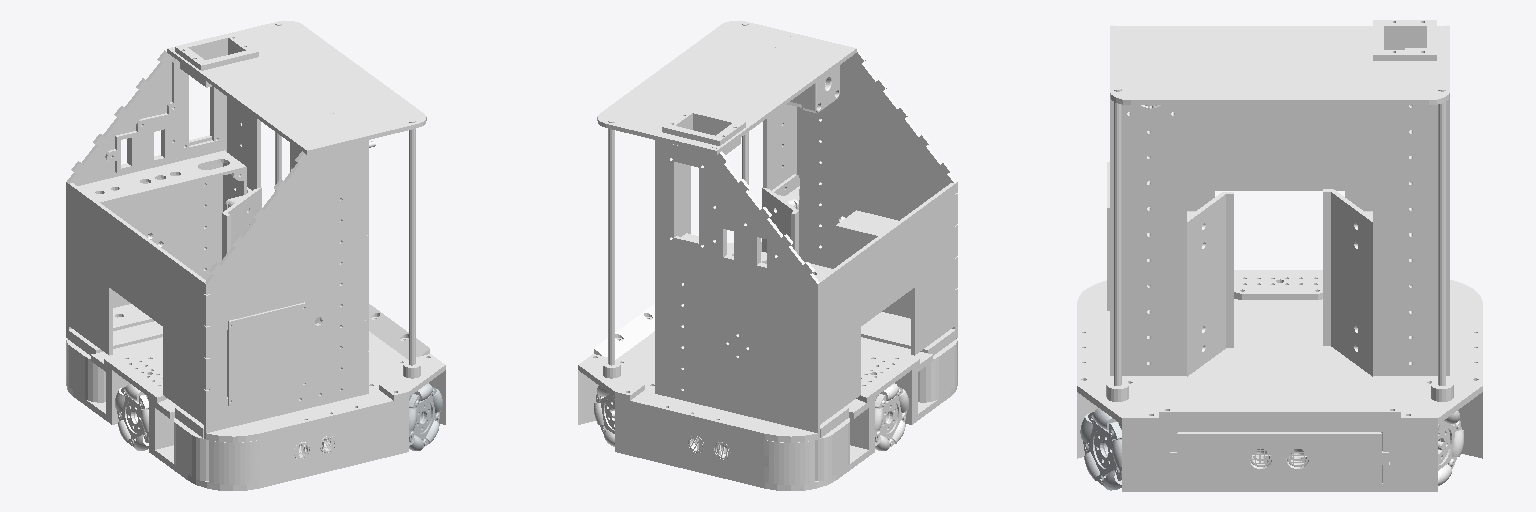
robot.urdf — eva:
<?xml version="1.0" encoding="utf-8"?>
<!-- This URDF was automatically created by SolidWorks to URDF Exporter! Originally created by [author] ([email redacted]) 
     Commit Version: 1.6.0-1-g15f4949  Build Version: 1.6.7594.29634
     For more information, please see http://wiki.ros.org/sw_urdf_exporter -->
<robot
  name="eva">
  <link
    name="evaBot01_base">
    <inertial>
      <origin
        xyz="-0.037166 -0.0044862 0.066632"
        rpy="0 0 0" />
      <mass
        value="2.604" />
      <inertia
        ixx="0.0035998"
        ixy="-1.1358E-05"
        ixz="-2.3646E-05"
        iyy="0.004967"
        iyz="8.6177E-07"
        izz="0.006078" />
    </inertial>
    <visual>
      <origin
        xyz="0 0 0"
        rpy="0 0 0" />
      <geometry>
        <mesh
          filename="package://eva/meshes/evaBot01_base.STL" />
      </geometry>
      <material
        name="">
        <color
          rgba="1 1 1 1" />
      </material>
    </visual>
    <collision>
      <origin
        xyz="0 0 0"
        rpy="0 0 0" />
      <geometry>
        <mesh
          filename="package://eva/meshes/evaBot01_base.STL" />
      </geometry>
    </collision>
  </link>
  <link
    name="evaBot01_left_wheel">
    <inertial>
      <origin
        xyz="0.11732 -0.19696 2.0333E-08"
        rpy="0 0 0" />
      <mass
        value="0.055895" />
      <inertia
        ixx="1.0957E-05"
        ixy="-2.5639E-06"
        ixz="-5.9397E-12"
        iyy="7.9962E-06"
        iyz="-5.248E-12"
        izz="6.516E-06" />
    </inertial>
    <visual>
      <origin
        xyz="0 0 0"
        rpy="0 0 0" />
      <geometry>
        <mesh
          filename="package://eva/meshes/evaBot01_back_wheel.STL" />
      </geometry>
      <material
        name="">
        <color
          rgba="1 1 1 1" />
      </material>
    </visual>
    <collision>
      <origin
        xyz="0 0 0"
        rpy="0 0 0" />
      <geometry>
        <mesh
          filename="package://eva/meshes/evaBot01_back_wheel.STL" />
      </geometry>
    </collision>
  </link>
  <joint
    name="left_wheel_to_base"
    type="continuous">
    <origin
      xyz="0.06461 0.11191 0.019"
      rpy="0 0 -0.5236" />
    <parent
      link="evaBot01_base" />
    <child
      link="evaBot01_left_wheel" />
    <axis
      xyz="0 -1 0" />
  </joint>
  <link
    name="evaBot01_right_wheel">
    <inertial>
      <origin
        xyz="0.11732 0.19696 -3.424E-09"
        rpy="0 0 0" />
      <mass
        value="0.055895" />
      <inertia
        ixx="1.0957E-05"
        ixy="2.5639E-06"
        ixz="9.1144E-12"
        iyy="7.9963E-06"
        iyz="-1.0797E-11"
        izz="6.516E-06" />
    </inertial>
    <visual>
      <origin
        xyz="0 0 0"
        rpy="0 0 0" />
      <geometry>
        <mesh
          filename="package://eva/meshes/evaBot01_back_wheel.STL" />
      </geometry>
      <material
        name="">
        <color
          rgba="0.89804 0.91765 0.92941 1" />
      </material>
    </visual>
    <collision>
      <origin
        xyz="0 0 0"
        rpy="0 0 0" />
      <geometry>
        <mesh
          filename="package://eva/meshes/evaBot01_back_wheel.STL" />
      </geometry>
    </collision>
  </link>
  <joint
    name="right_wheel_to_base"
    type="continuous">
    <origin
      xyz="0.06461 -0.11191 0.019"
      rpy="0 0 0.5236" />
    <parent
      link="evaBot01_base" />
    <child
      link="evaBot01_right_wheel" />
    <axis
      xyz="0 1 0" />
  </joint>
  <link
    name="evaBot01_back_wheel">
    <inertial>
      <origin
        xyz="0.11732 0.19696 -3.424E-09"
        rpy="0 0 0" />
      <mass
        value="0.055895" />
      <inertia
        ixx="1.0957E-05"
        ixy="2.5639E-06"
        ixz="9.1144E-12"
        iyy="7.9963E-06"
        iyz="-1.0797E-11"
        izz="6.516E-06" />
    </inertial>
    <visual>
      <origin
        xyz="0 0 0"
        rpy="0 0 0" />
      <geometry>
        <mesh
          filename="package://eva/meshes/evaBot01_back_wheel.STL" />
      </geometry>
      <material
        name="">
        <color
          rgba="1 1 1 1" />
      </material>
    </visual>
    <collision>
      <origin
        xyz="0 0 0"
        rpy="0 0 0" />
      <geometry>
        <mesh
          filename="package://eva/meshes/evaBot01_back_wheel.STL" />
      </geometry>
    </collision>
  </link>
  <joint
    name="back_wheel_to_base"
    type="continuous">
    <origin
      xyz="-0.129220573348487 0 0.0190000000000005"
      rpy="0 0 -1.57079632679484" />
    <parent
      link="evaBot01_base" />
    <child
      link="evaBot01_back_wheel" />
    <axis
      xyz="0 1 0" />
  </joint>
</robot>

--- Render facts (derived) ---
The picture shows the robot from 3 angles, left to right: view 1: azimuth 30°, elevation 25°; view 2: azimuth 150°, elevation 25°; view 3: azimuth 270°, elevation 25°; orthographic projection.
Model eva with 4 links and 3 joints (3 continuous), rooted at evaBot01_base, posed all joints at 0.
Visible links, largest first — view 1: evaBot01_base, evaBot01_back_wheel, evaBot01_right_wheel; view 2: evaBot01_base, evaBot01_back_wheel, evaBot01_left_wheel; view 3: evaBot01_base, evaBot01_right_wheel, evaBot01_left_wheel.
Boxes of the visible links, x1=… form: evaBot01_base: x1=66, y1=20, x2=445, y2=490; evaBot01_back_wheel: x1=115, y1=384, x2=148, y2=450; evaBot01_right_wheel: x1=409, y1=383, x2=442, y2=450; evaBot01_base: x1=578, y1=20, x2=957, y2=490; evaBot01_back_wheel: x1=875, y1=383, x2=908, y2=450; evaBot01_left_wheel: x1=594, y1=386, x2=614, y2=446; evaBot01_base: x1=1077, y1=20, x2=1482, y2=491; evaBot01_right_wheel: x1=1080, y1=408, x2=1121, y2=490; evaBot01_left_wheel: x1=1438, y1=411, x2=1463, y2=485.
Bounding box of the posed robot: 0.249 × 0.2866 × 0.3119 m (x, y, z).
4 mesh visuals loaded from 2 distinct referenced files (2 binary STL).
